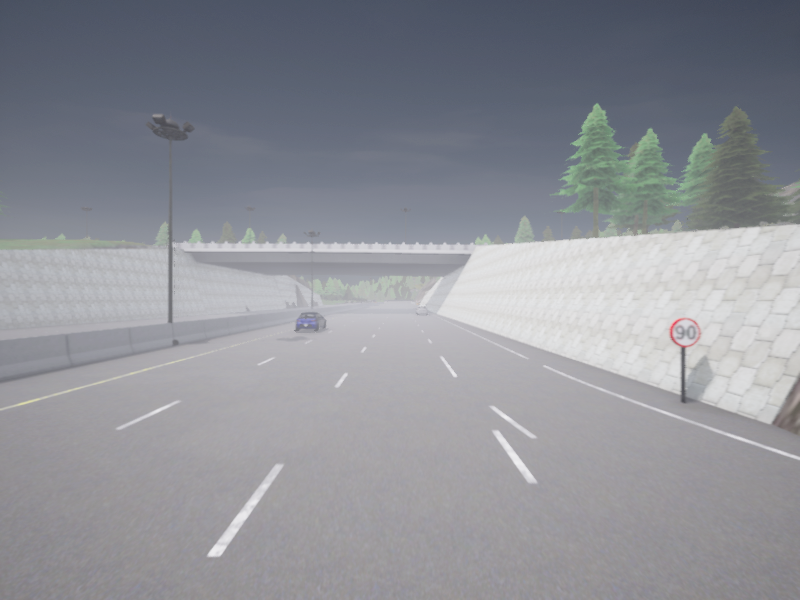vehicle: (295, 312, 326, 331), (415, 306, 427, 314)
